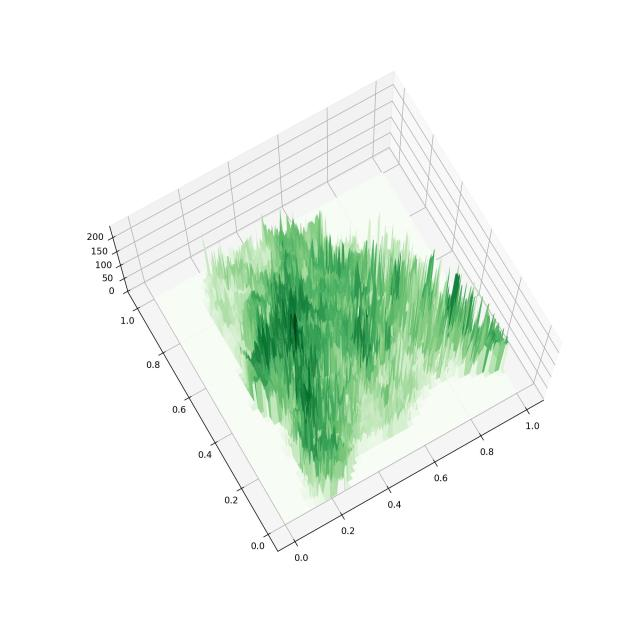trembling aspen: (72, 51, 598, 580)
